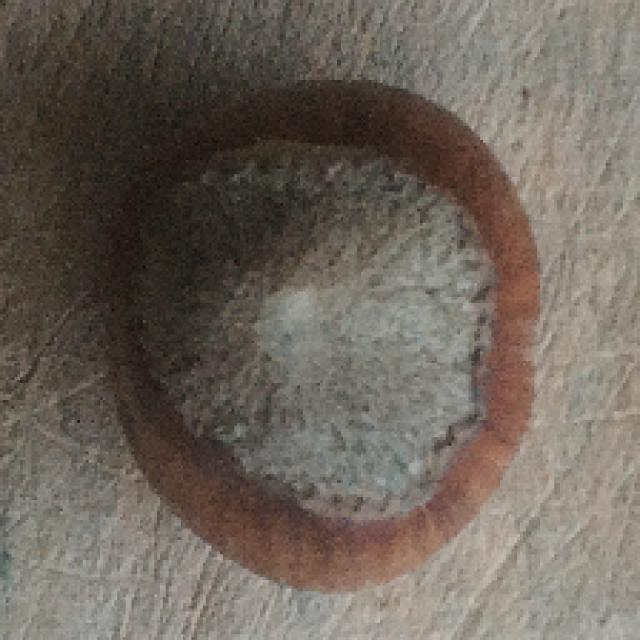QualityHazelnut: (101, 76, 543, 599)
